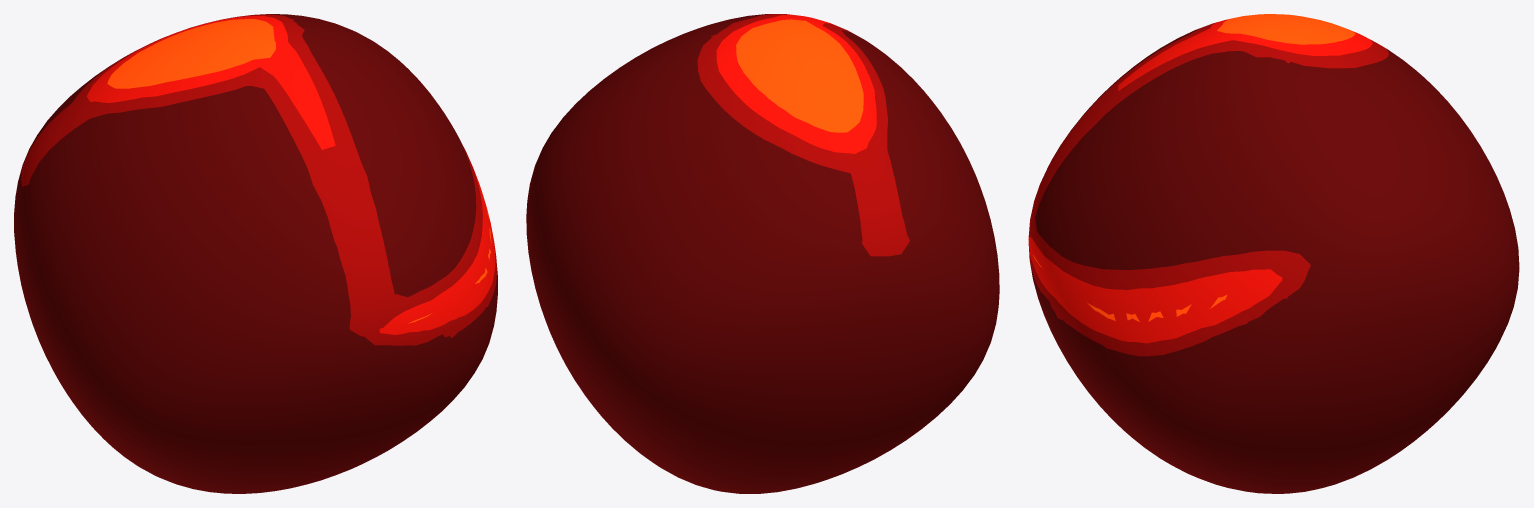
The model's file is molten_crystal_89.glb.
3 views of the same model, side by side, from view 1: azimuth 30°, elevation 25°; view 2: azimuth 150°, elevation 25°; view 3: azimuth 270°, elevation 25° (orthographic). The views are drawn at different scales.
Parts seen in each view (by area): view 1: molten_crystal_89; view 2: molten_crystal_89; view 3: molten_crystal_89.
Part boxes in pixels (x1=…): molten_crystal_89: x1=14, y1=14, x2=497, y2=493; molten_crystal_89: x1=526, y1=14, x2=999, y2=493; molten_crystal_89: x1=1028, y1=14, x2=1519, y2=493.
Bounding box in the file's own units: 20.63 × 21.29 × 21.34.
